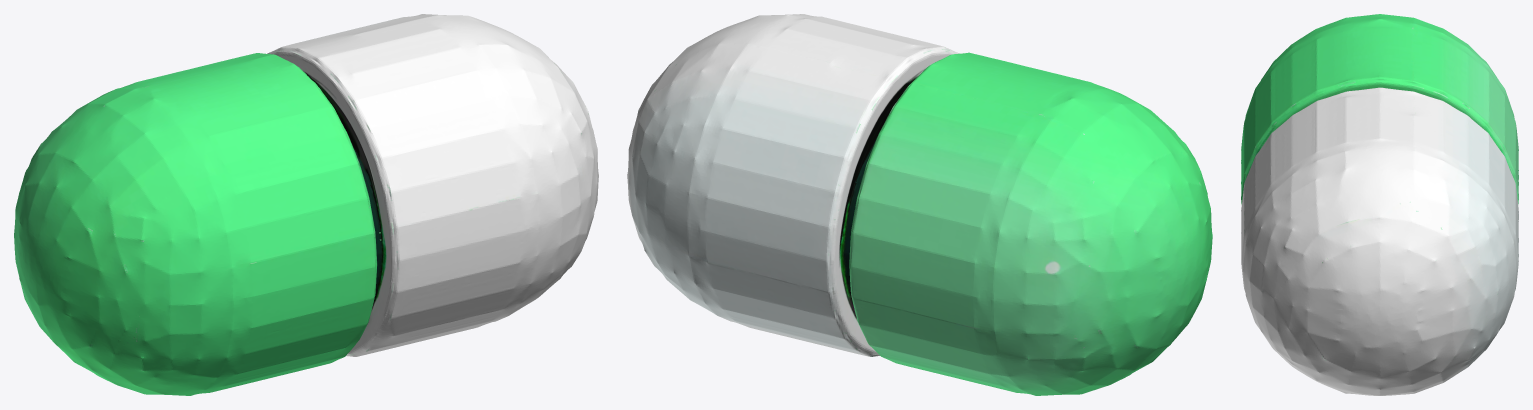
The model's file is pill.glb.
3 views of the same model, side by side, from view 1: azimuth 30°, elevation 25°; view 2: azimuth 150°, elevation 25°; view 3: azimuth 270°, elevation 25° (orthographic). The views are drawn at different scales.
Bounding box in the file's own units: 1.9 × 0.9638 × 0.9825.
1 material, 1 textured.
